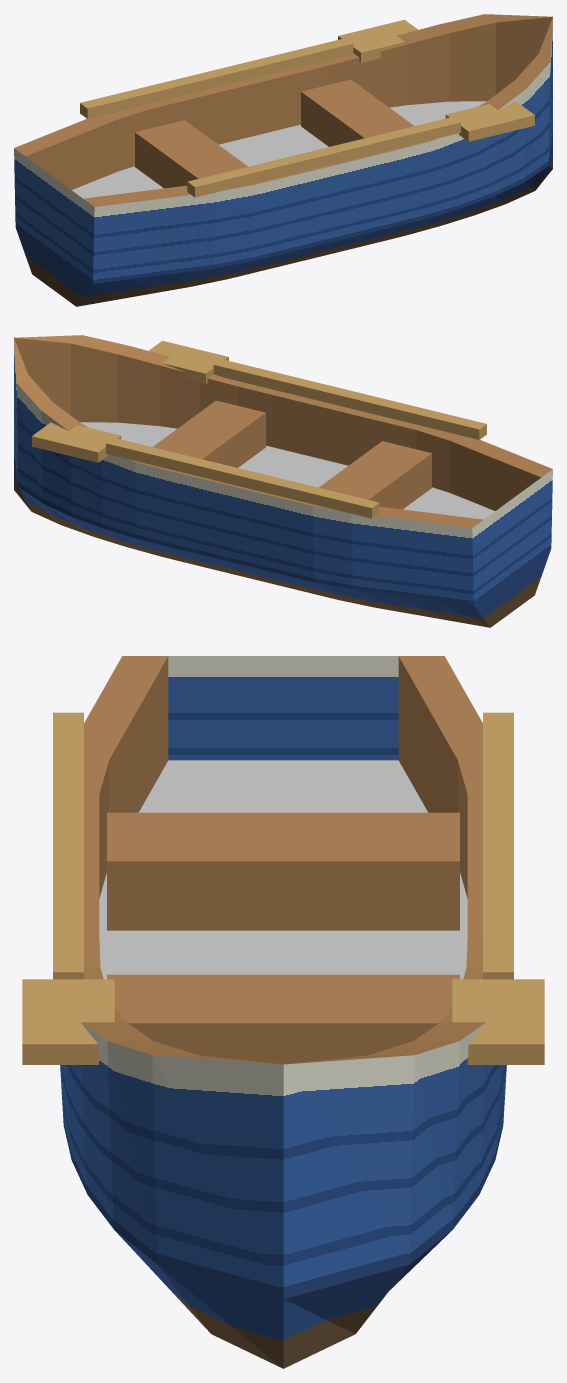
File: rowboat.obj
3 renders of one model, top to bottom at view 1: azimuth 30°, elevation 25°; view 2: azimuth 150°, elevation 25°; view 3: azimuth 270°, elevation 25°, orthographic. The views are drawn at different scales.
Bounding box in the file's own units: 40.5 × 11.81 × 18.36.
